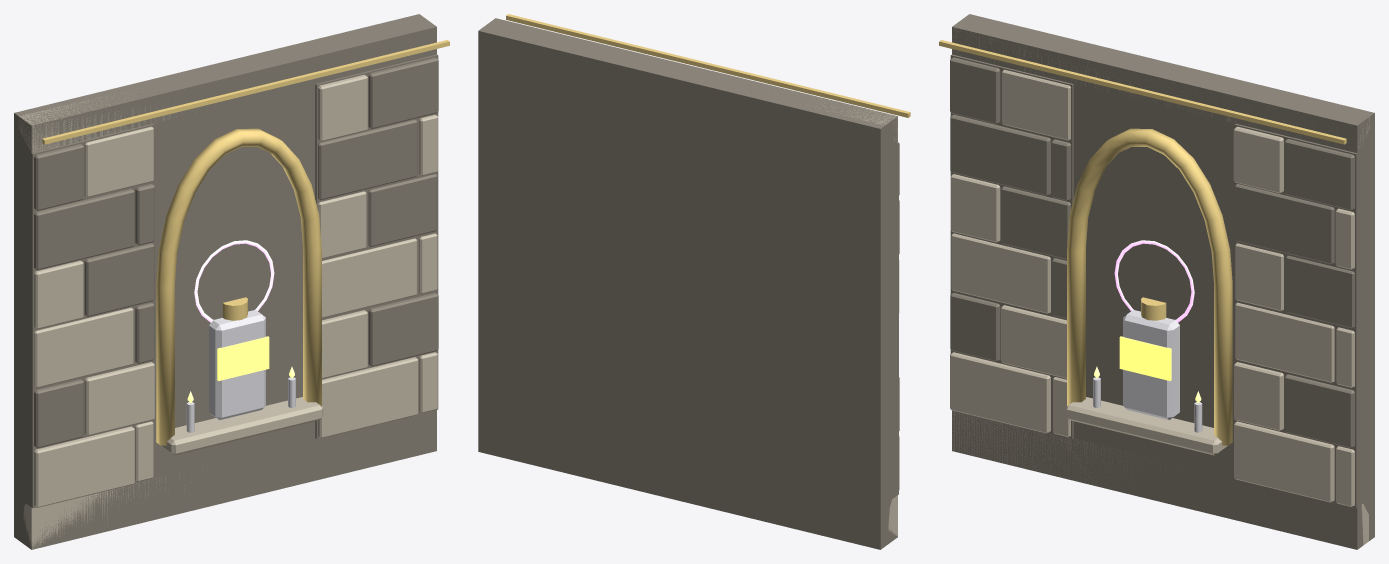
Rendered from wall_bb_niche.glb.
The picture shows the model from 3 angles, left to right: view 1: azimuth 30°, elevation 25°; view 2: azimuth 150°, elevation 25°; view 3: azimuth 330°, elevation 25°; orthographic projection.
Parts seen in each view (by area): view 1: wall_bb_niche; view 2: wall_bb_niche; view 3: wall_bb_niche.
Part boxes in pixels (x1=…): wall_bb_niche: x1=14, y1=14, x2=449, y2=549; wall_bb_niche: x1=478, y1=14, x2=910, y2=549; wall_bb_niche: x1=939, y1=14, x2=1374, y2=549.
Bounding box in the file's own units: 4 × 4 × 0.55.
